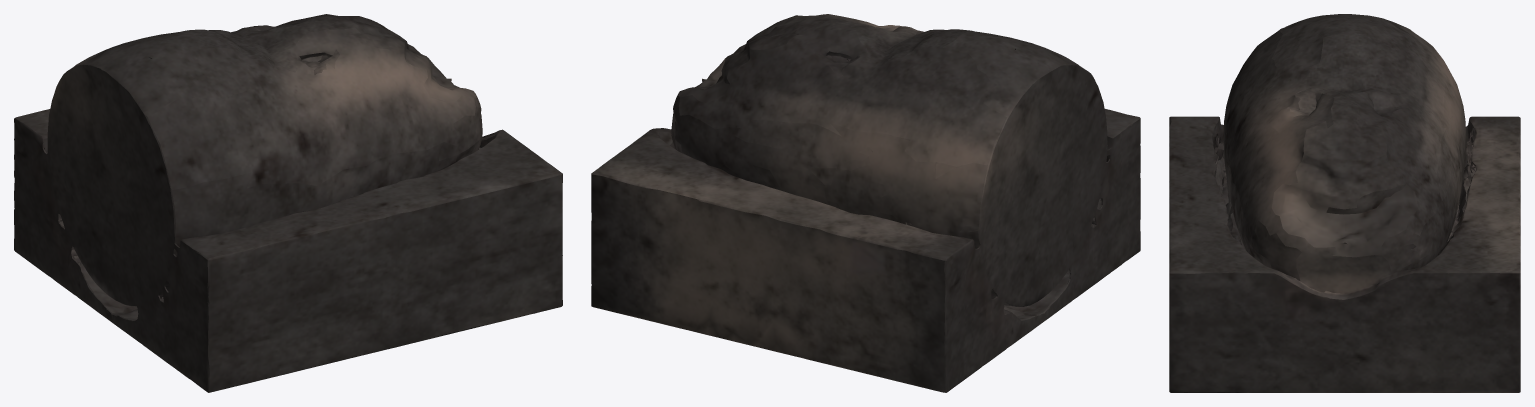
3 renders of one model, left to right at view 1: azimuth 30°, elevation 25°; view 2: azimuth 150°, elevation 25°; view 3: azimuth 270°, elevation 25°, orthographic. The views are drawn at different scales.
Visible parts, largest first — view 1: world; view 2: world; view 3: world.
Boxes of the visible parts, bbox=[...] form: world: bbox=[14, 14, 562, 392]; world: bbox=[591, 14, 1140, 392]; world: bbox=[1169, 14, 1520, 392].
Bounding box in the file's own units: 1.2 × 0.8598 × 1.14.
Materials: 1 (1 with a texture image).
